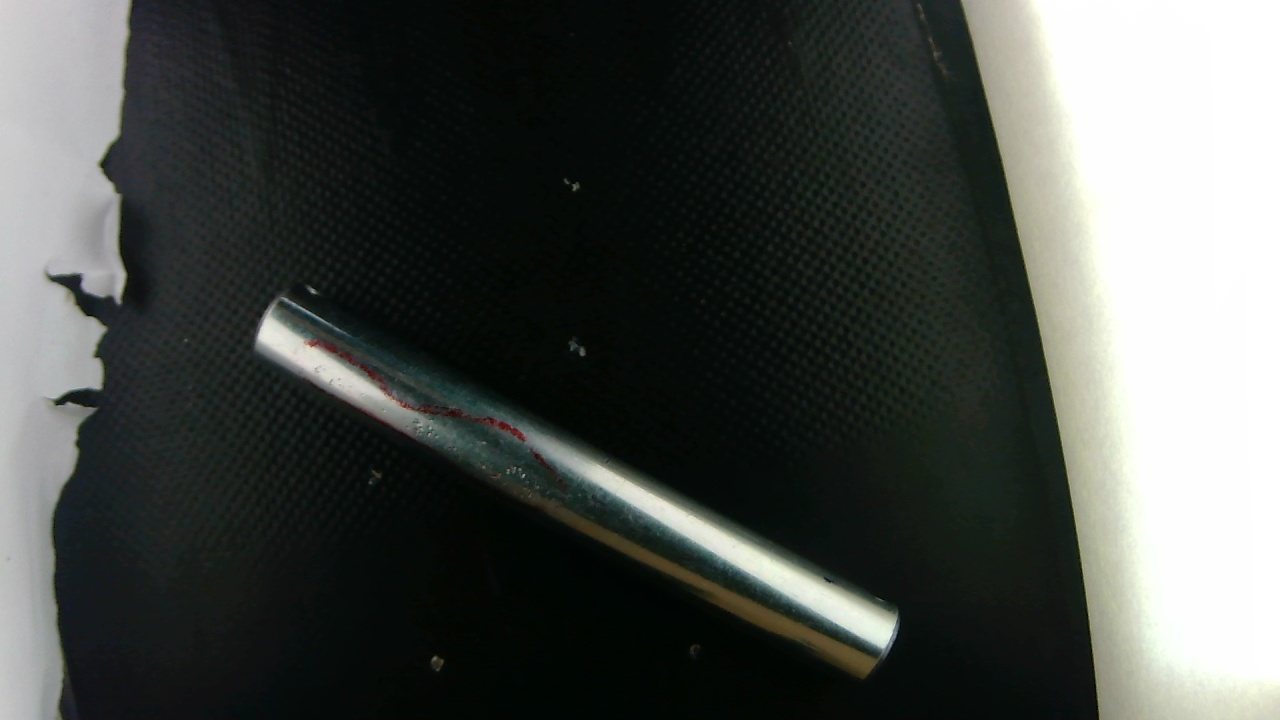pitmark_pin: (403, 397, 548, 500)
